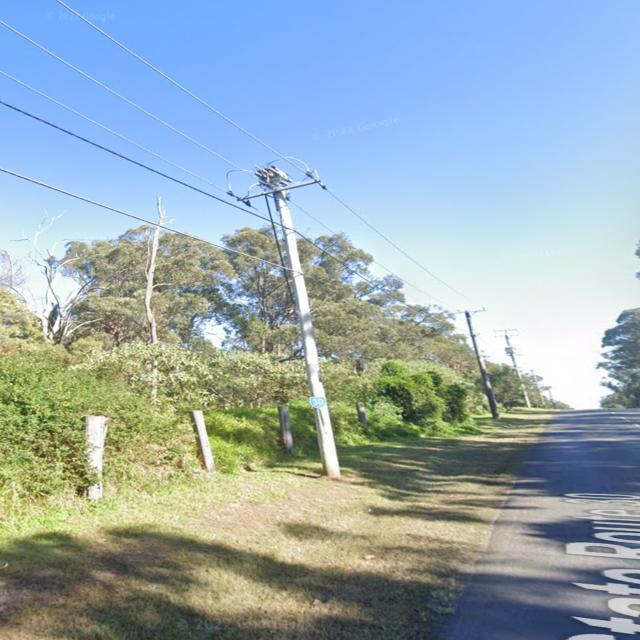HV-switch: (250, 163, 286, 188)
HV-transmission: (226, 169, 328, 207), (447, 306, 486, 316)
concrete-pole: (275, 192, 342, 480)
crossarm: (240, 178, 321, 202), (447, 310, 485, 315), (494, 328, 516, 332), (494, 335, 518, 337), (508, 354, 523, 357)
timber-pole: (464, 310, 500, 419), (504, 330, 532, 408), (531, 369, 547, 409)
transformer: (505, 346, 515, 354)
